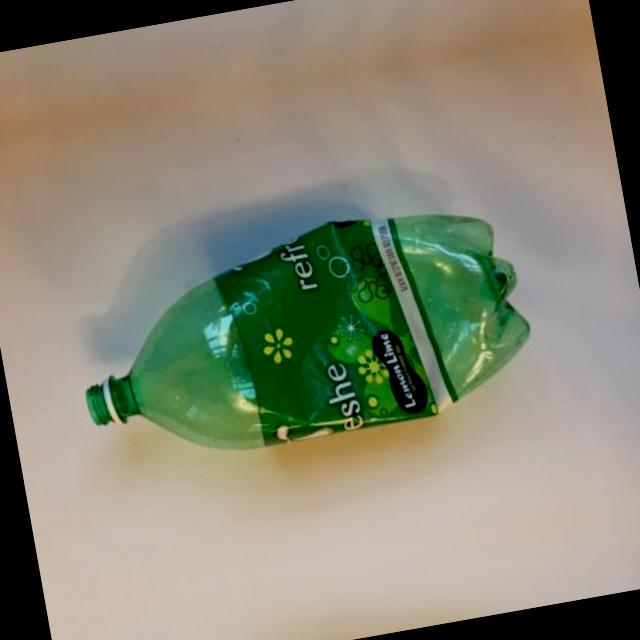Plastic: (51, 176, 566, 509)
